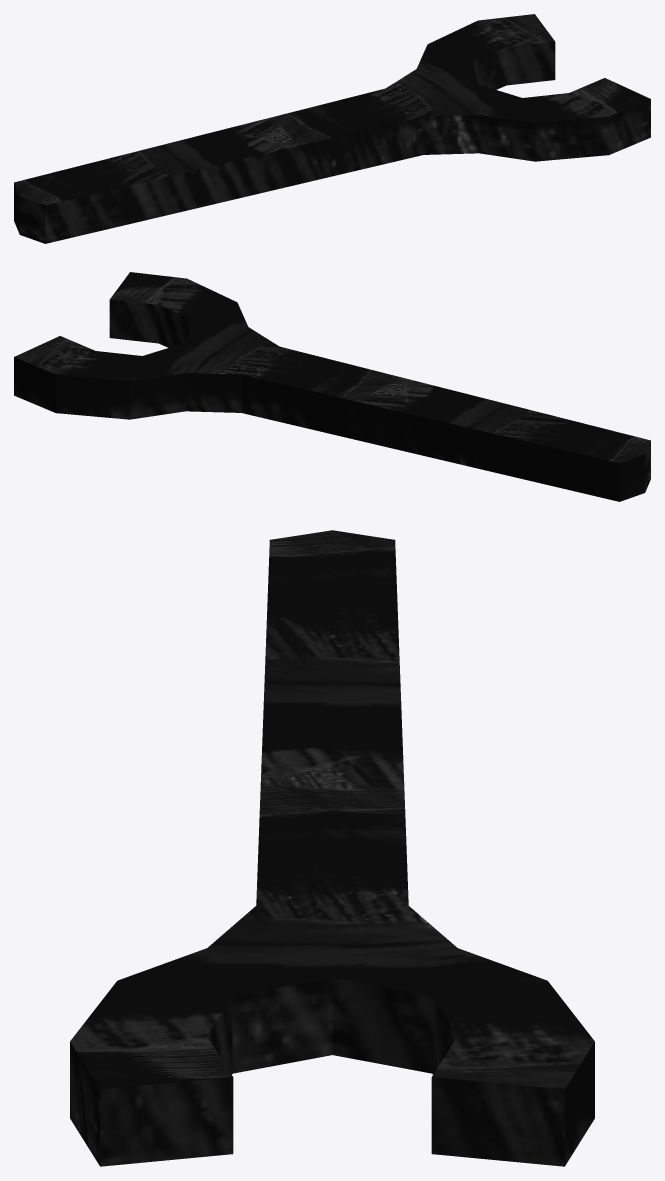
The model's file is wrench.glb.
3 views of the same model, one above another, from view 1: azimuth 30°, elevation 25°; view 2: azimuth 150°, elevation 25°; view 3: azimuth 270°, elevation 25° (orthographic). The views are drawn at different scales.
Visible parts, largest first — view 1: wrench; view 2: wrench; view 3: wrench.
Part boxes in pixels (x1=…): wrench: x1=14, y1=14, x2=650, y2=243; wrench: x1=14, y1=272, x2=650, y2=501; wrench: x1=70, y1=530, x2=594, y2=1166.
Bounding box in the file's own units: 0.1556 × 0.01 × 0.0617.
1 material, 1 textured.
